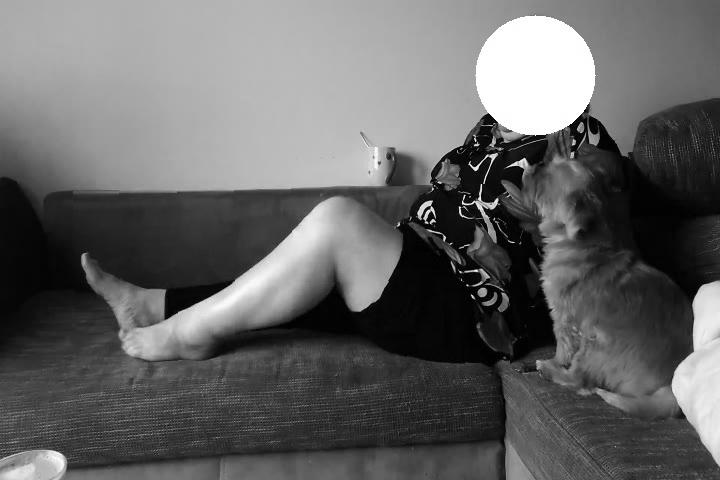lower_body: (75, 187, 511, 379)
